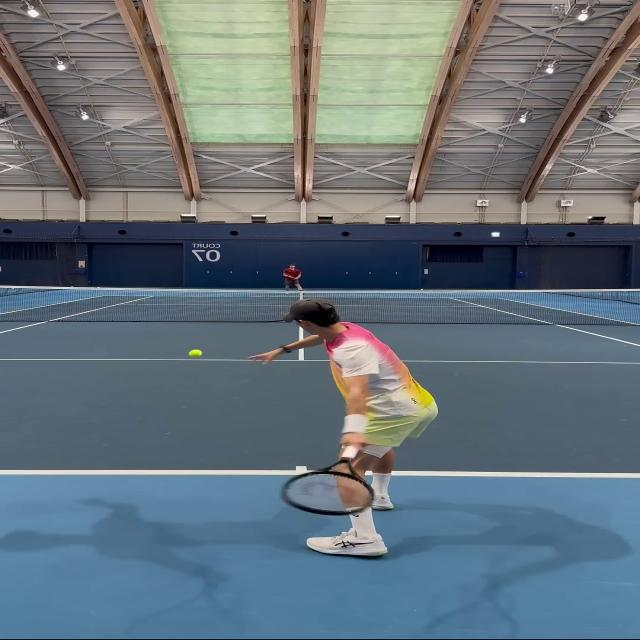tennis_ball: (191, 350, 200, 356)
